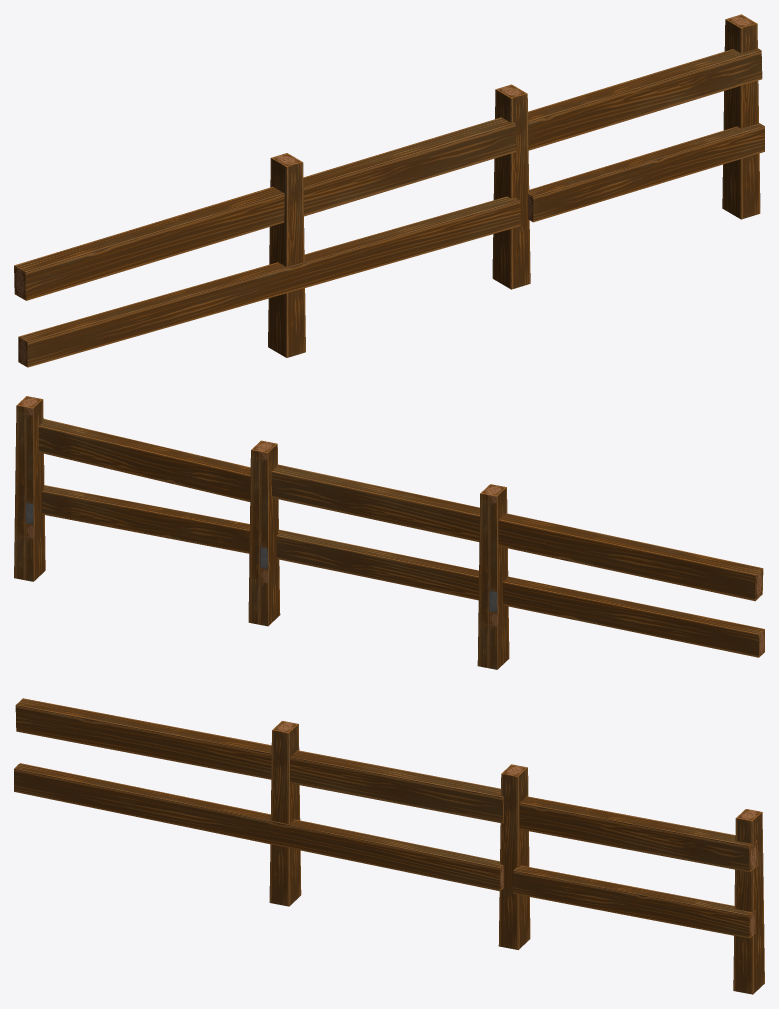
The picture shows the model from 3 angles, top to bottom: view 1: azimuth 30°, elevation 25°; view 2: azimuth 150°, elevation 25°; view 3: azimuth 330°, elevation 25°; orthographic projection. The views are drawn at different scales.
Visible parts, largest first — view 1: Cube.2152; view 2: Cube.2152; view 3: Cube.2152.
Boxes of the visible parts, bbox=[...] form: Cube.2152: bbox=[14, 14, 764, 367]; Cube.2152: bbox=[14, 396, 764, 669]; Cube.2152: bbox=[14, 698, 764, 994].
Size of the model in its own units: 564 by 132 by 71.73.
1 material, 1 textured.
